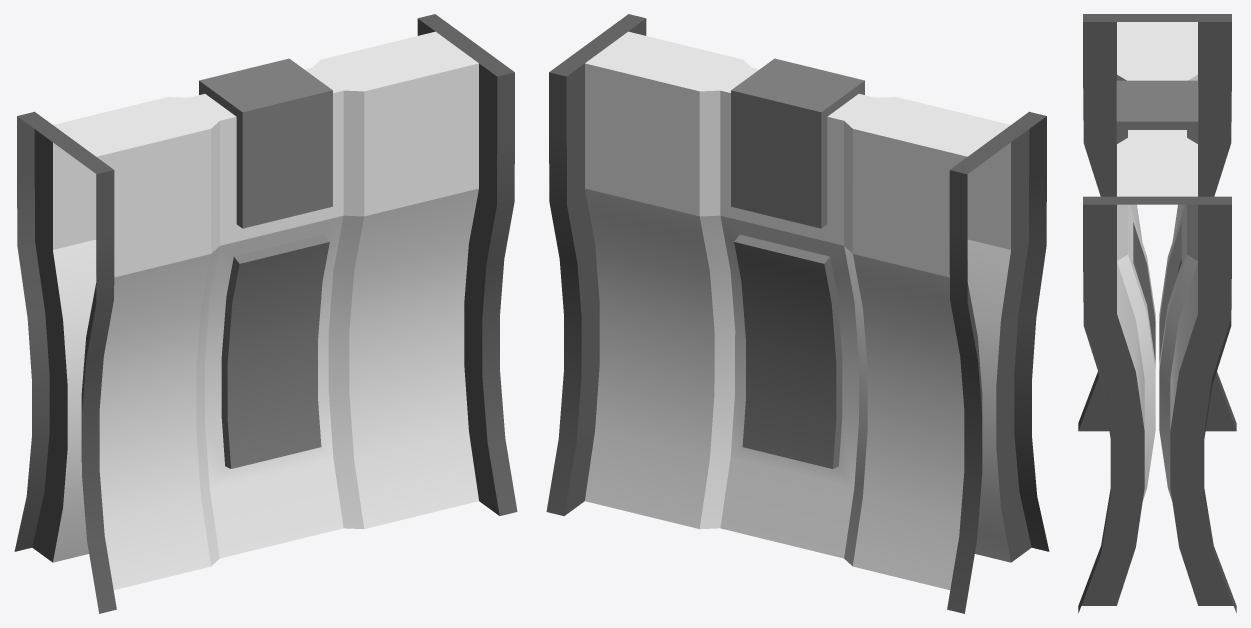
File: SM_ExteriorWall_01_Elevator.fbx
The picture shows the model from 3 angles, left to right: view 1: azimuth 30°, elevation 25°; view 2: azimuth 150°, elevation 25°; view 3: azimuth 270°, elevation 25°; orthographic projection. The views are drawn at different scales.
Visible parts, largest first — view 1: SM_ExteriorWall_01_Elevator; view 2: SM_ExteriorWall_01_Elevator; view 3: SM_ExteriorWall_01_Elevator.
Part boxes in pixels (x1,y1,x2,y2): SM_ExteriorWall_01_Elevator: [14, 14, 517, 613]; SM_ExteriorWall_01_Elevator: [546, 14, 1049, 613]; SM_ExteriorWall_01_Elevator: [1078, 14, 1236, 613].
Size of the model in its own units: 200 by 204 by 70.18.
1 material, 1 textured.
